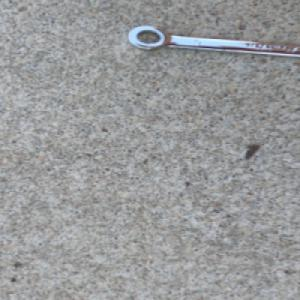Wrench: (121, 23, 300, 59)
